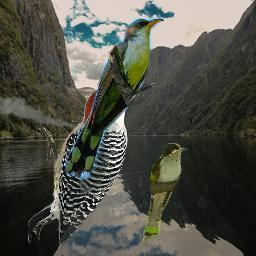Cuckoo: (65, 18, 164, 179), (143, 143, 188, 243)
Woodpecker: (28, 82, 156, 244)
